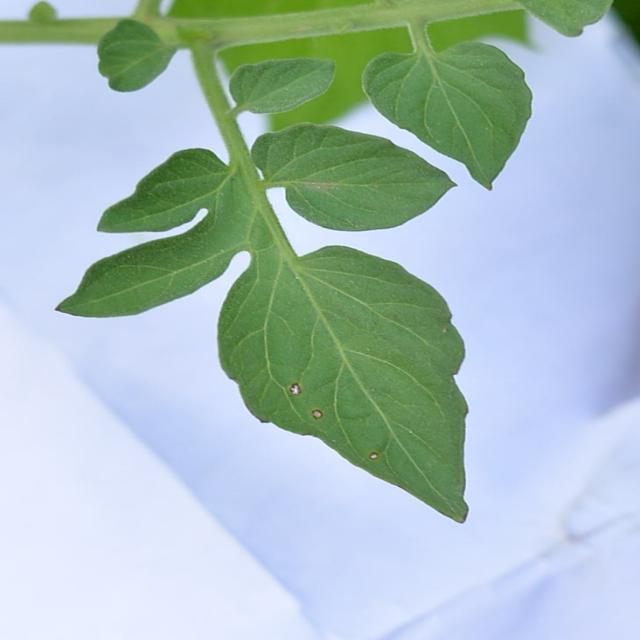healthy: (216, 50, 456, 237), (362, 32, 590, 192)
infected: (246, 340, 479, 530)
